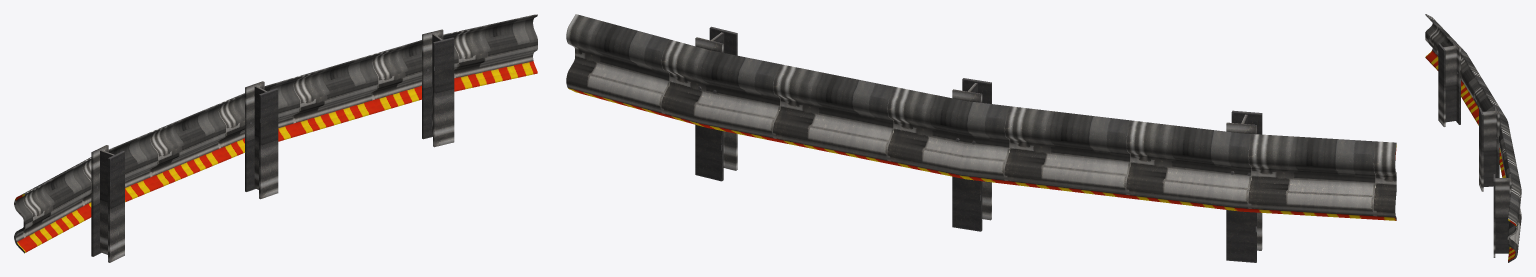
The model's file is Rail 15.FBX.
3 renders of one model, left to right at view 1: azimuth 30°, elevation 25°; view 2: azimuth 150°, elevation 25°; view 3: azimuth 270°, elevation 25°, orthographic. The views are drawn at different scales.
Visible parts, largest first — view 1: guardrail_small_30deg_out; view 2: guardrail_small_30deg_out; view 3: guardrail_small_30deg_out.
Boxes of the visible parts, x1=… form: guardrail_small_30deg_out: x1=14, y1=14, x2=537, y2=262; guardrail_small_30deg_out: x1=566, y1=14, x2=1396, y2=262; guardrail_small_30deg_out: x1=1425, y1=14, x2=1521, y2=262.
Size of the model in its own units: 582 by 101 by 115.
